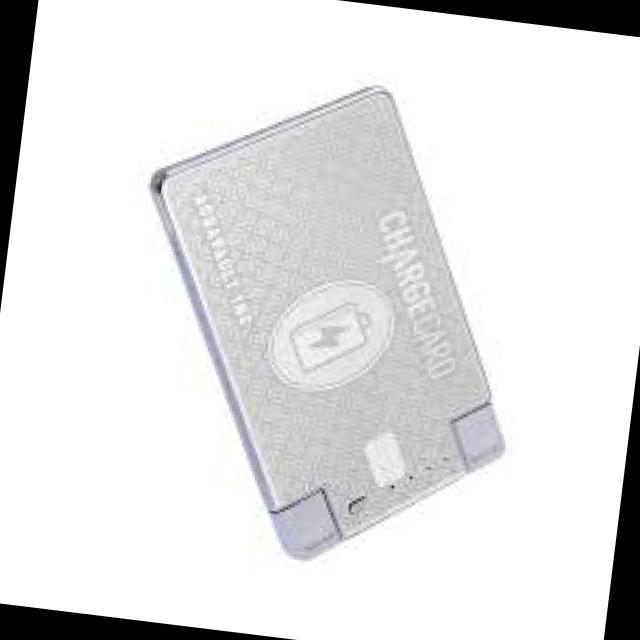portable-charger: (97, 55, 552, 594)
